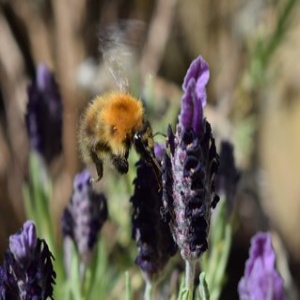bee: (76, 89, 164, 197)
